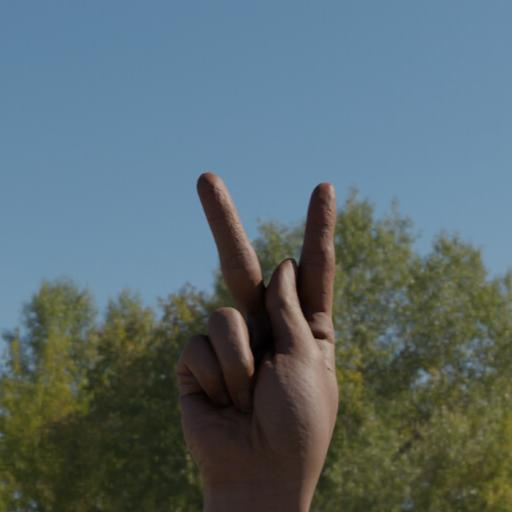K: (113, 137, 411, 497)
